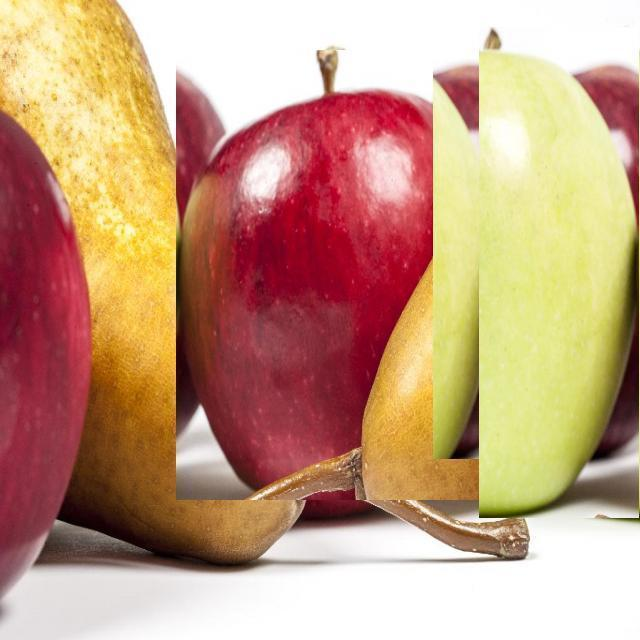Apple: (176, 50, 486, 500), (480, 27, 640, 518), (0, 110, 92, 599), (433, 59, 545, 459)
